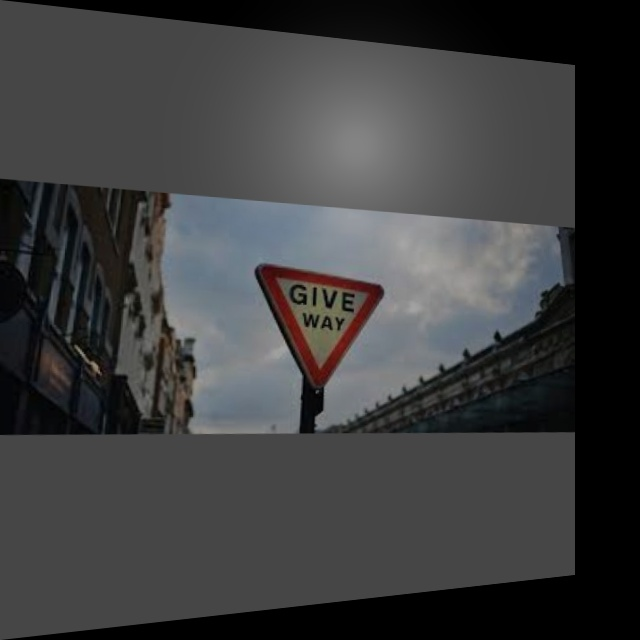Give_Way: (260, 262, 383, 389)
